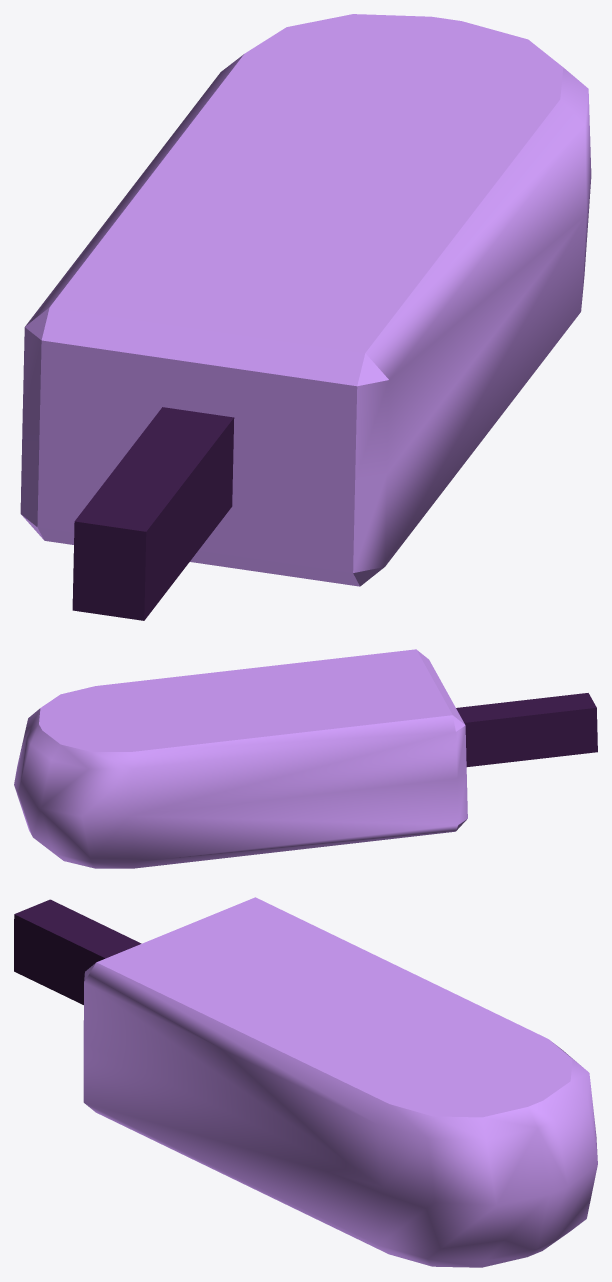
Rendered from ToyObject_171.fbx.
3 renders of one model, top to bottom at view 1: azimuth 30°, elevation 25°; view 2: azimuth 150°, elevation 25°; view 3: azimuth 270°, elevation 25°, orthographic. The views are drawn at different scales.
Visible parts, largest first — view 1: object-1.068; view 2: object-1.068; view 3: object-1.068.
Boxes of the visible parts, <box> form: object-1.068: <box>20,14,591,620</box>; object-1.068: <box>14,649,597,868</box>; object-1.068: <box>14,897,597,1267</box>.
Size of the model in its own units: 0.1838 by 0.0535 by 0.1728.
